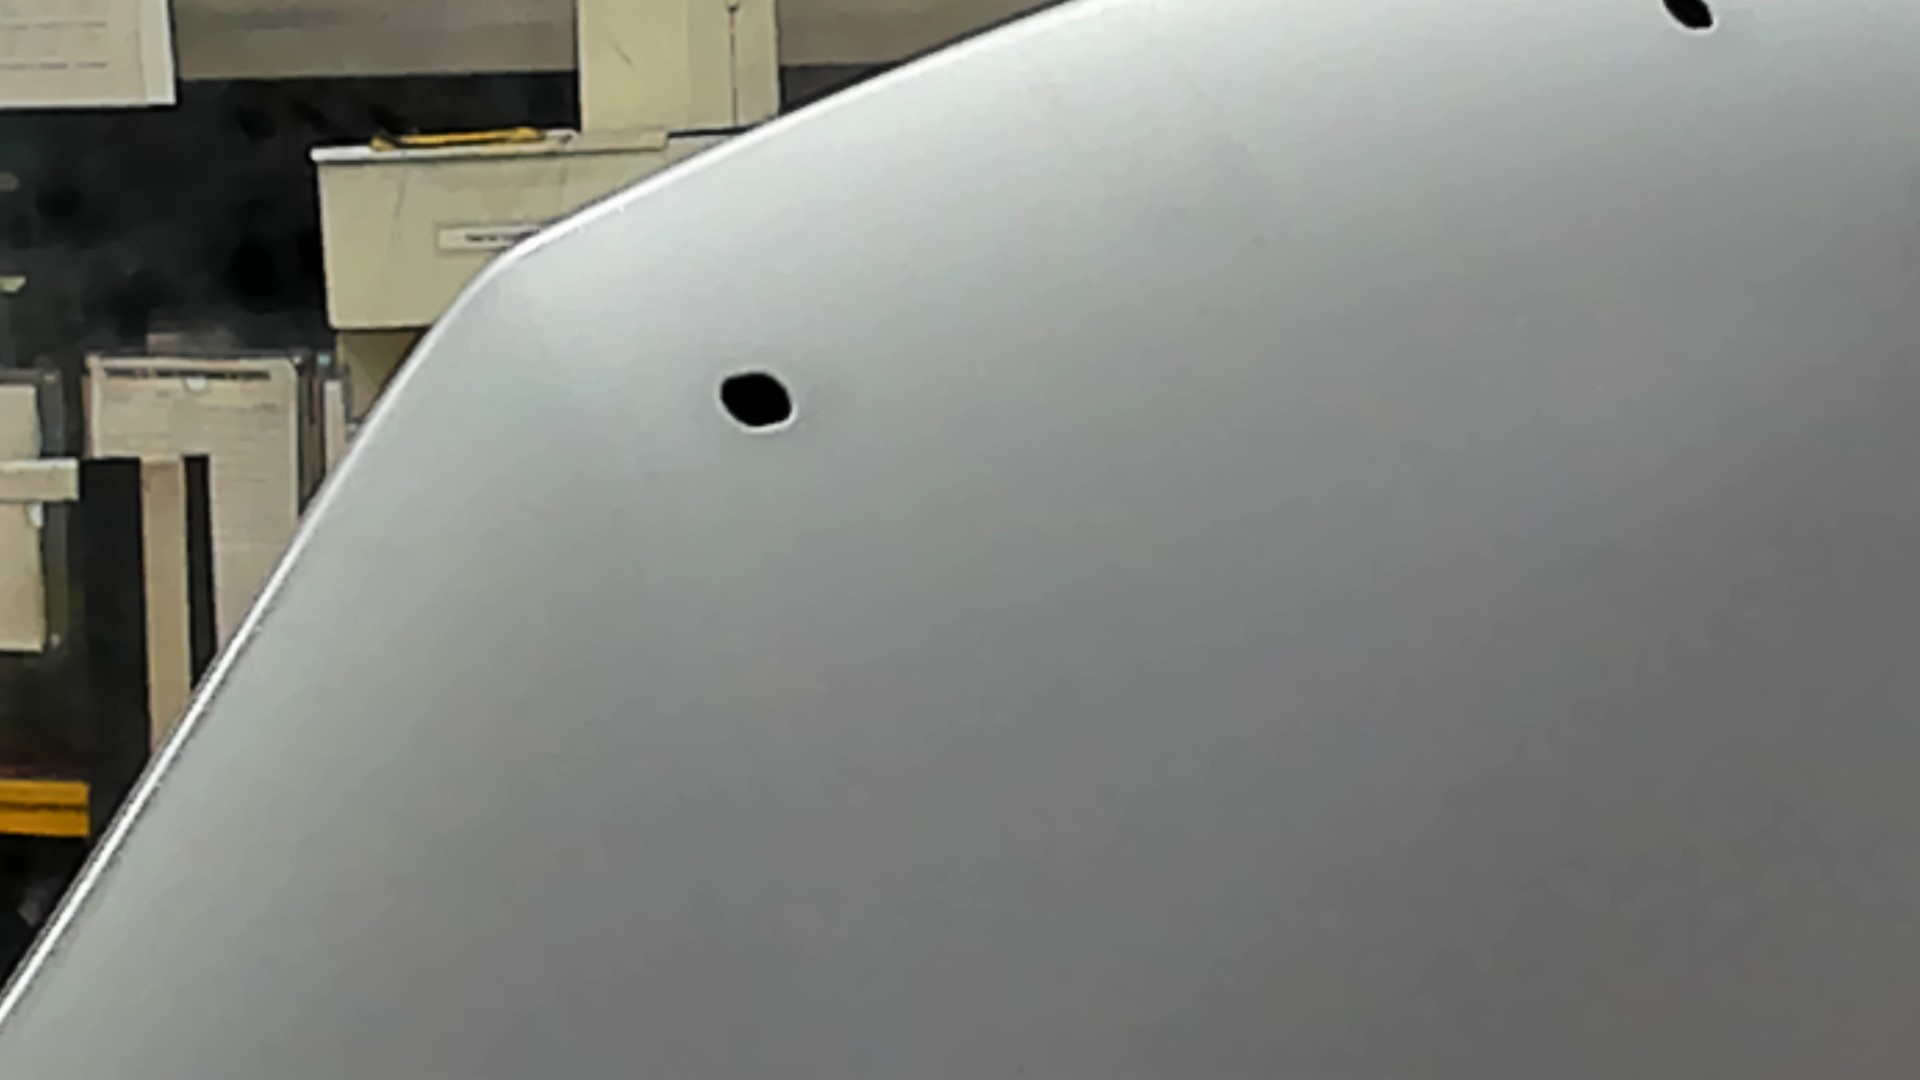Agujero: (716, 367, 799, 433), (1658, 1, 1718, 34)
